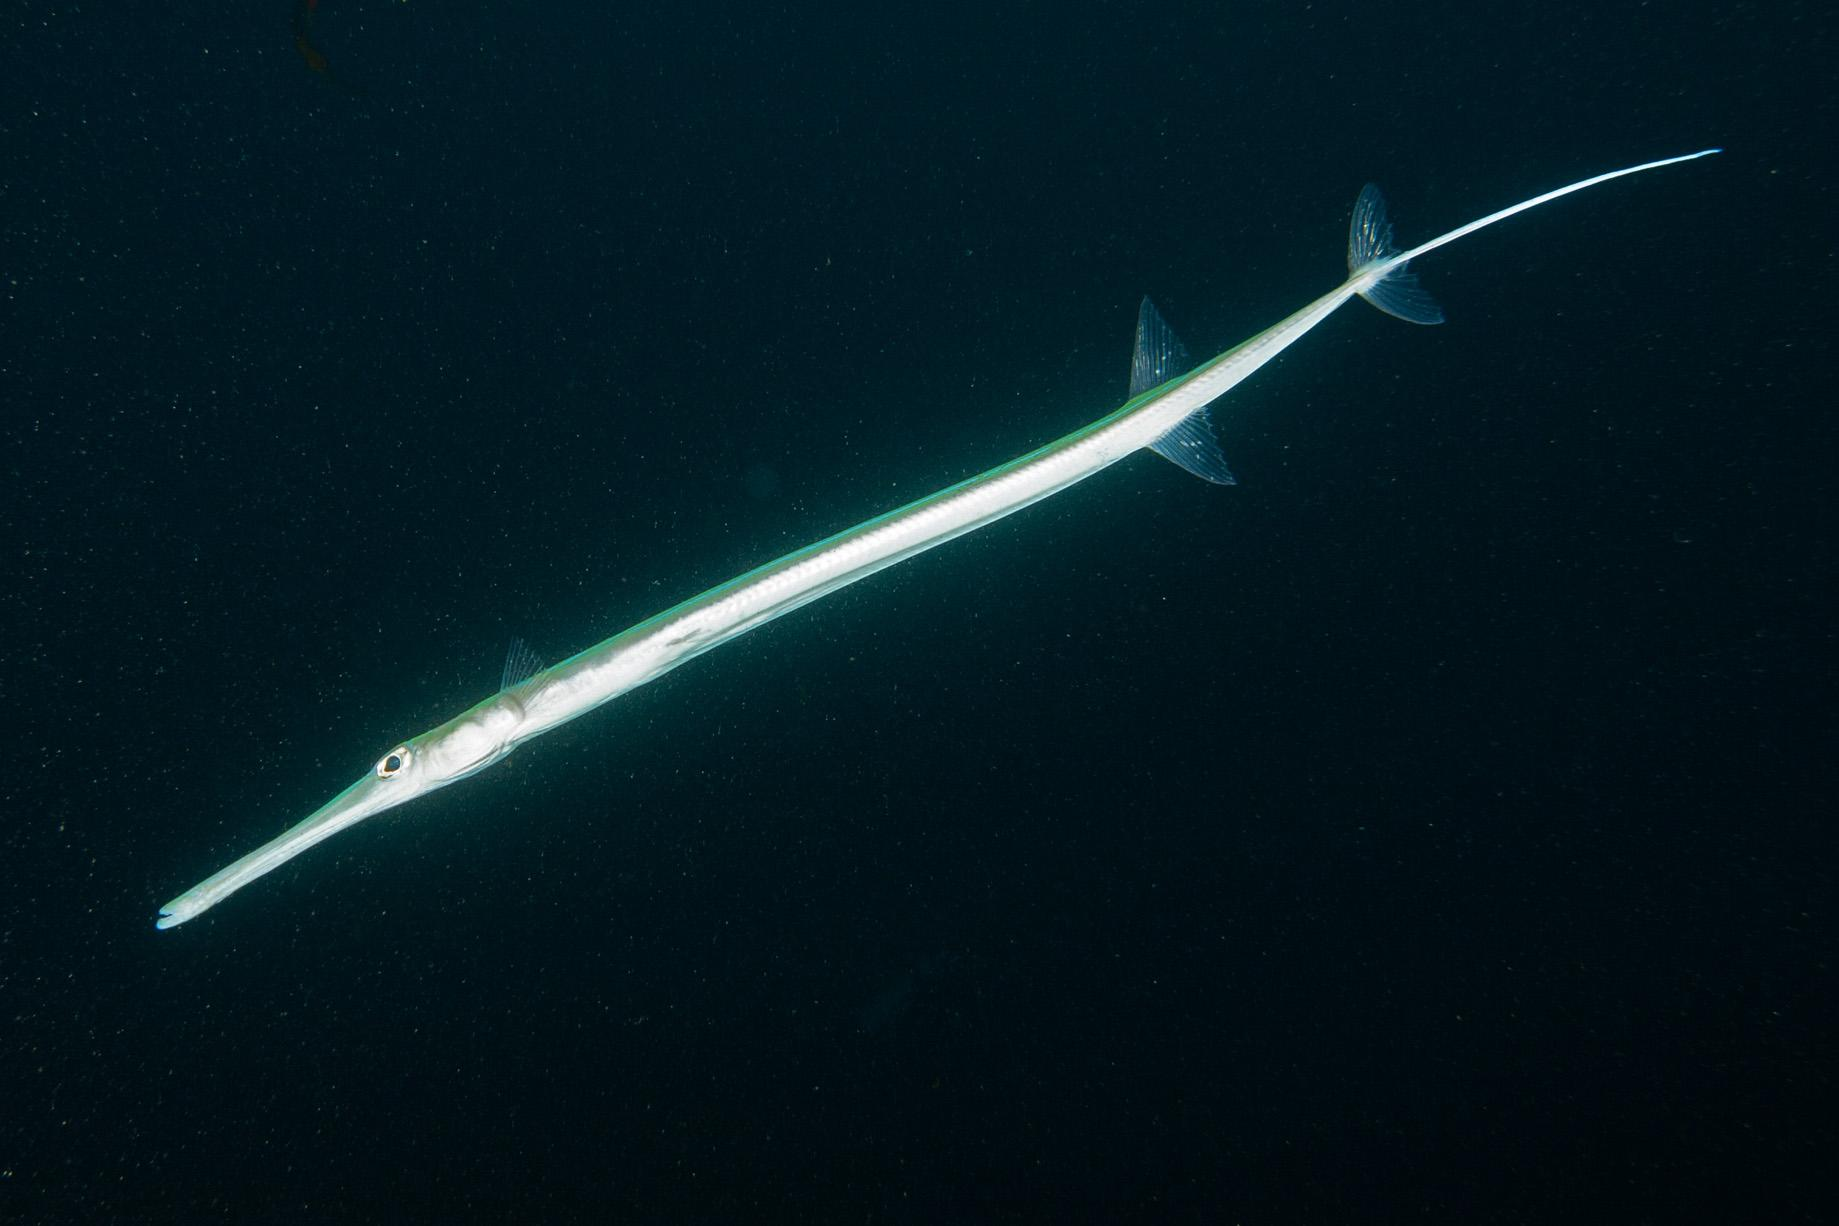Fistularia commersonii: (55, 138, 1839, 940)
